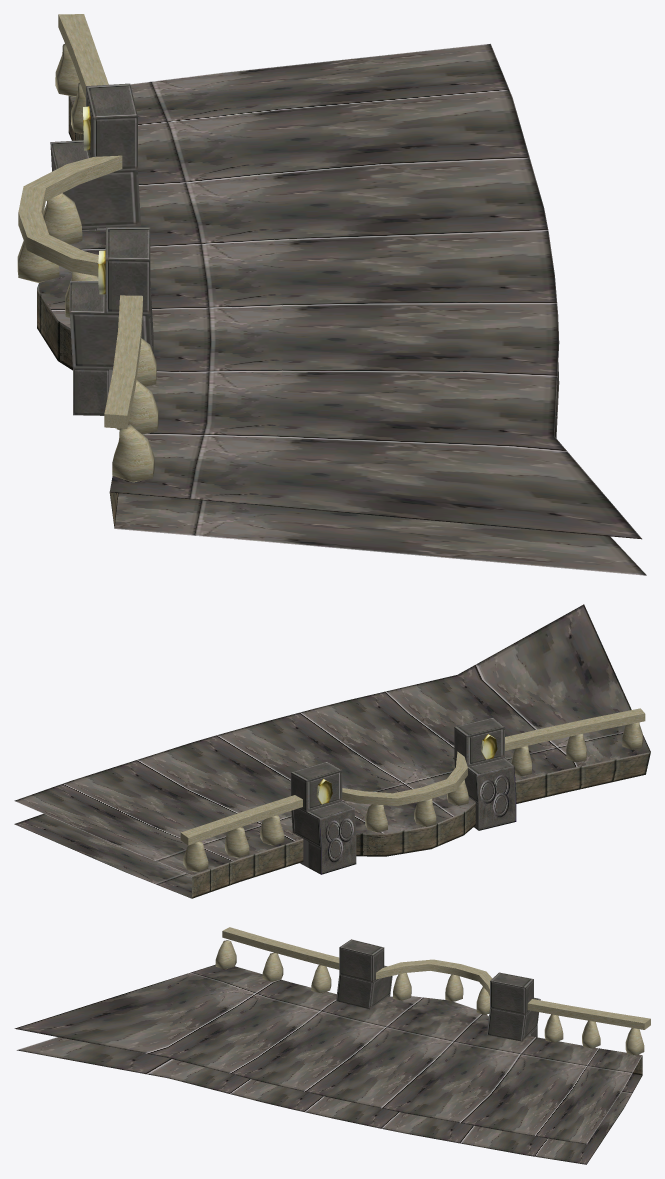
The model's file is CH09_SMAUG_PLAYSURFACE_LAIR31.fbx.
3 renders of one model, top to bottom at view 1: azimuth 30°, elevation 25°; view 2: azimuth 150°, elevation 25°; view 3: azimuth 270°, elevation 25°, orthographic. The views are drawn at different scales.
Visible parts, largest first — view 1: CH09_SMAUG_PLAYSURFACE_LAIR31; view 2: CH09_SMAUG_PLAYSURFACE_LAIR31; view 3: CH09_SMAUG_PLAYSURFACE_LAIR31.
Part boxes in pixels (x1,y1,x2,y2): CH09_SMAUG_PLAYSURFACE_LAIR31: (17,14,646,575); CH09_SMAUG_PLAYSURFACE_LAIR31: (14,604,650,898); CH09_SMAUG_PLAYSURFACE_LAIR31: (14,927,650,1164).
Size of the model in its own units: 117610 by 23218 by 174025.
5 materials, 5 textured.
